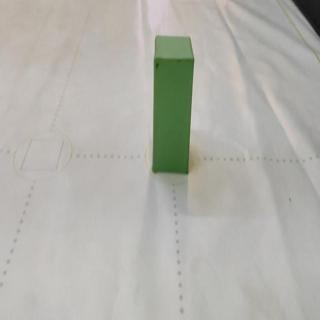greenbox: (149, 31, 197, 176)
